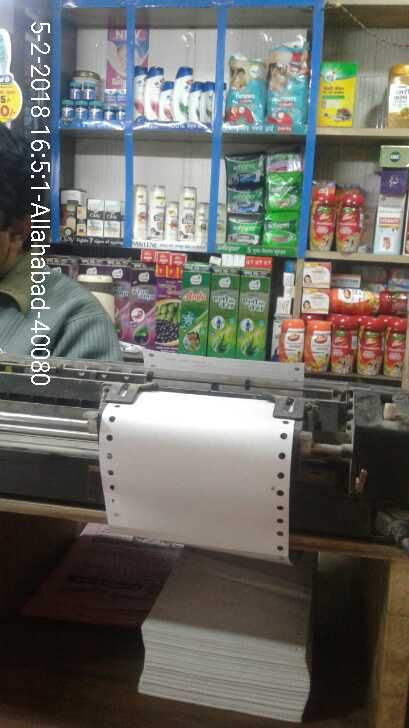vicks: (58, 68, 131, 132)
